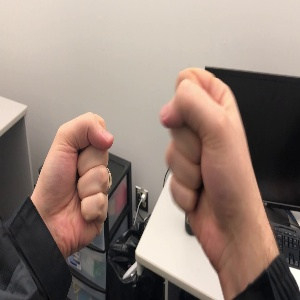hand: (159, 67, 266, 233), (41, 111, 114, 242)
